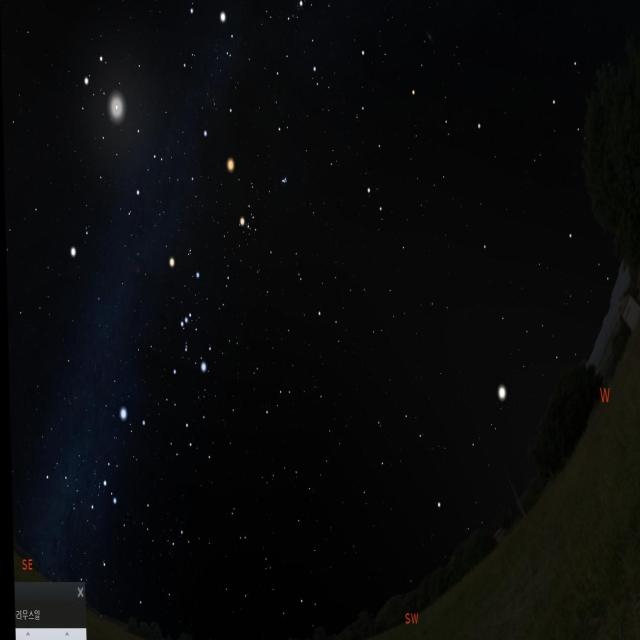canis_major: (91, 396, 153, 514)
canis_minor: (65, 216, 94, 270)
gemini: (80, 44, 177, 205)
moon: (87, 87, 135, 139)
orion: (160, 262, 216, 394)
pleiades: (275, 166, 297, 202)
taurus: (228, 146, 294, 258)
